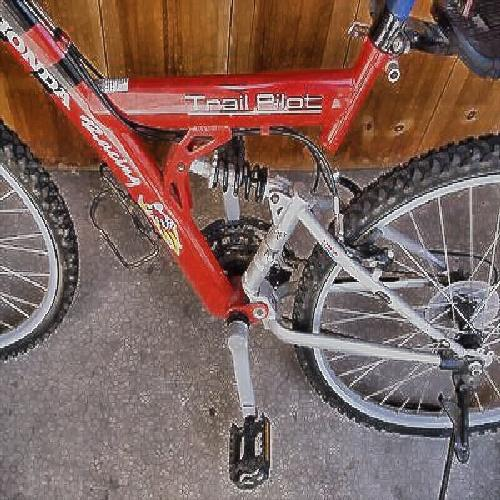bicycle: (18, 19, 483, 452)
